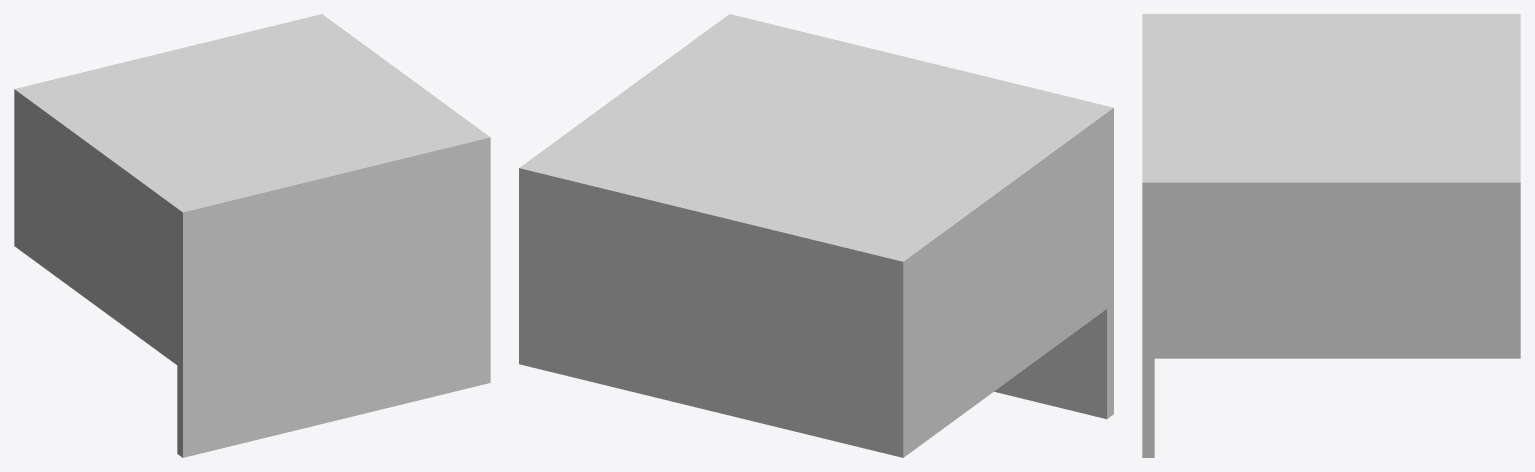
The model's file is Counter_2_A.obj.
3 views of the same model, side by side, from view 1: azimuth 30°, elevation 25°; view 2: azimuth 150°, elevation 25°; view 3: azimuth 270°, elevation 25° (orthographic). The views are drawn at different scales.
Visible parts, largest first — view 1: Counter_2_A; view 2: Counter_2_A; view 3: Counter_2_A.
Boxes of the visible parts, <box> form: Counter_2_A: <box>14,14,490,457</box>; Counter_2_A: <box>519,14,1113,457</box>; Counter_2_A: <box>1142,14,1520,457</box>.
Bounding box in the file's own units: 1 × 0.7623 × 0.949.
